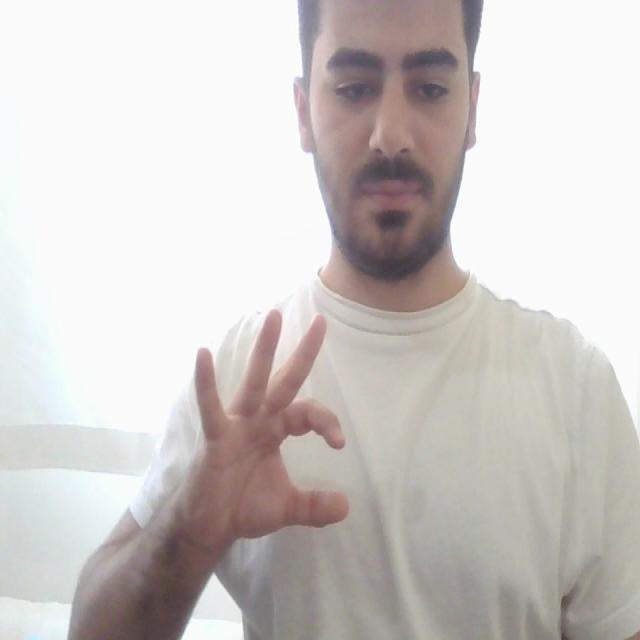Tuvalet: (146, 290, 378, 589)
